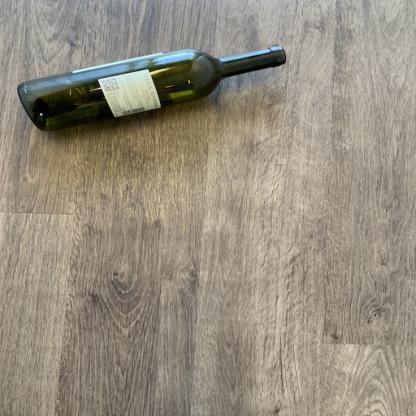trash: (12, 44, 290, 135)
